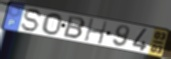4: (131, 28, 149, 52)
9: (111, 24, 131, 48)
B: (62, 15, 87, 40)
H: (84, 18, 109, 46)
O: (41, 13, 63, 36)
S: (20, 8, 45, 33)
